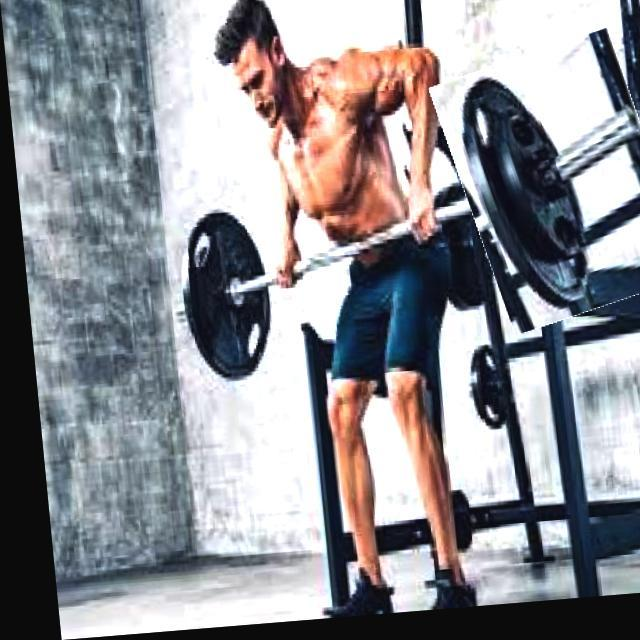barbell: (439, 46, 640, 338)
